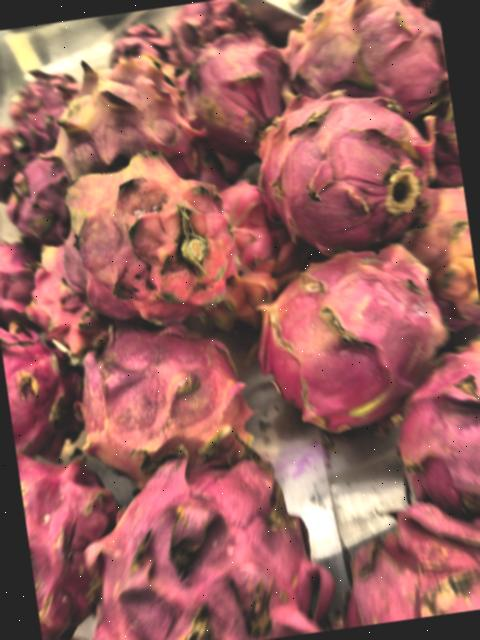buah-naga-belum-matang: (28, 141, 249, 336), (248, 237, 460, 422), (56, 305, 260, 471), (275, 0, 451, 122), (47, 56, 206, 190), (404, 190, 480, 322)
buah-naga-matang: (65, 427, 340, 640), (15, 431, 147, 640), (312, 501, 480, 631), (383, 346, 480, 527), (0, 310, 88, 459), (186, 39, 290, 145), (0, 229, 58, 335), (5, 158, 77, 239), (4, 73, 68, 146), (0, 112, 26, 211)
